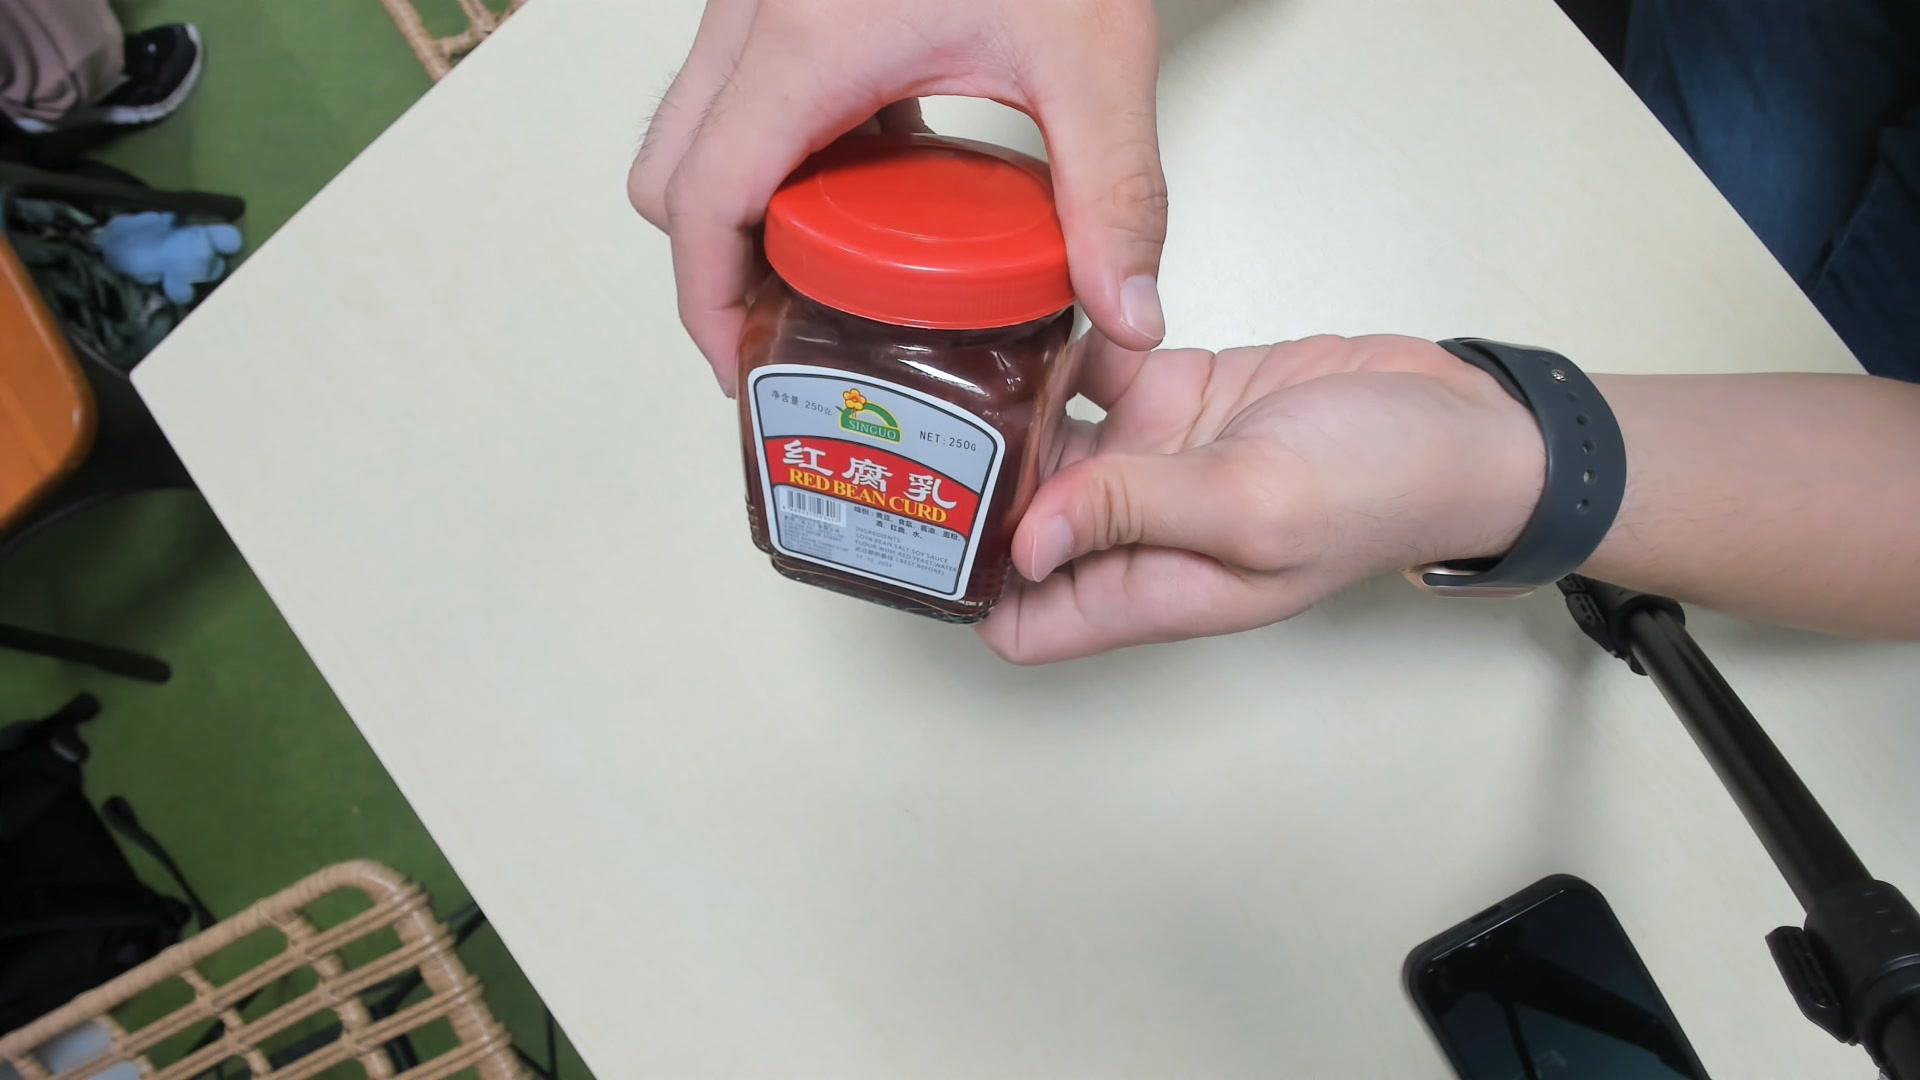OtherSauceDressing_200-299g_NonHalal_NonHealthy: (731, 131, 1083, 624)
